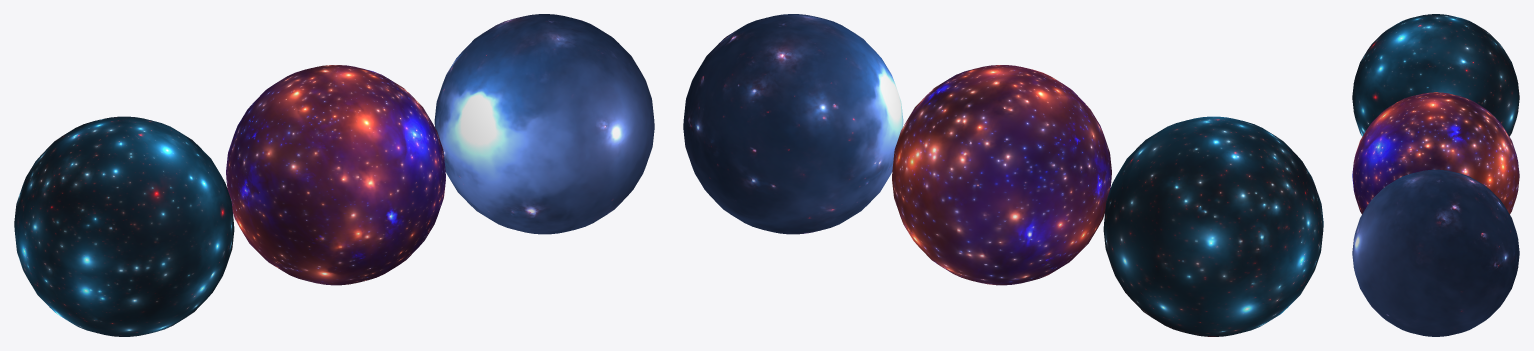
Rendered from sky_dome._nebula_and_stars_space_hdri..glb.
3 views of the same model, side by side, from view 1: azimuth 30°, elevation 25°; view 2: azimuth 150°, elevation 25°; view 3: azimuth 270°, elevation 25° (orthographic). The views are drawn at different scales.
Bounding box in the file's own units: 6.4 × 2 × 2.
3 materials, 3 textured.
